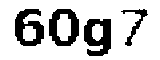0: (48, 5, 81, 50)
6: (11, 3, 46, 52)
7: (120, 3, 147, 51)
g: (84, 13, 117, 60)
